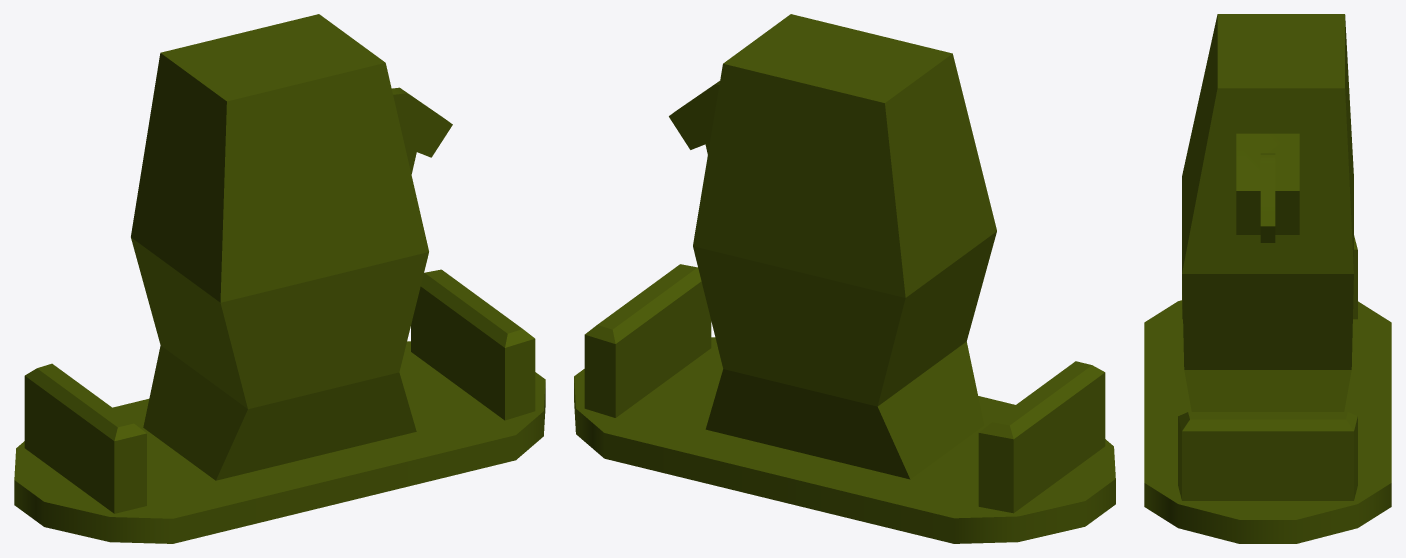
File: GaspumpMesh.fbx
The picture shows the model from 3 angles, left to right: view 1: azimuth 30°, elevation 25°; view 2: azimuth 150°, elevation 25°; view 3: azimuth 270°, elevation 25°; orthographic projection. The views are drawn at different scales.
Parts seen in each view (by area): view 1: MESH_Gaspump; view 2: MESH_Gaspump; view 3: MESH_Gaspump.
Part boxes in pixels (box(x1,y1,x2,y2)): MESH_Gaspump: box(14, 14, 545, 543); MESH_Gaspump: box(574, 14, 1115, 543); MESH_Gaspump: box(1144, 14, 1391, 543).
Size of the model in its own units: 1.99 by 1.49 by 0.8887.
